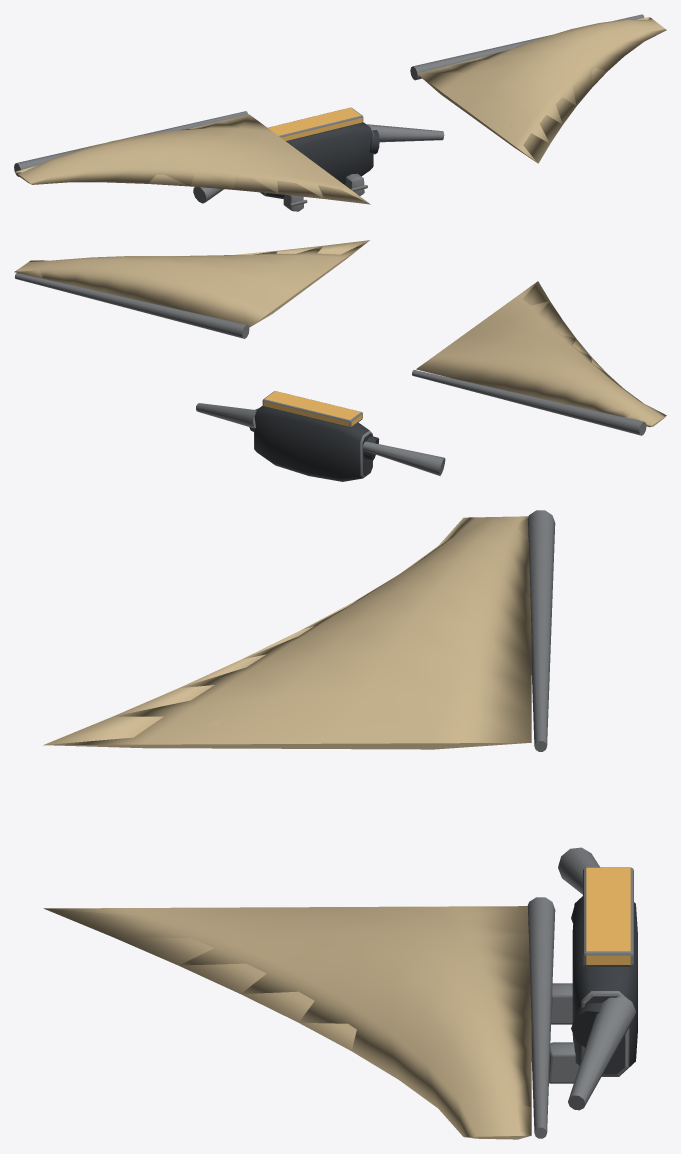
The model's file is wingsuit.fbx.
The picture shows the model from 3 angles, top to bottom: view 1: azimuth 30°, elevation 25°; view 2: azimuth 150°, elevation 25°; view 3: azimuth 270°, elevation 25°; orthographic projection. The views are drawn at different scales.
Visible parts, largest first — view 1: Mesh_Wingsuit_Membrane_R, Mesh_Wingsuit_Membrane_L, Mesh_Wingsuit_Pack, Mesh_Wingsuit_SparStub_L, Mesh_Wingsuit_Batten_L, Mesh_Wingsuit_Batten_R, Mesh_Wingsuit_Clamp_L, Mesh_Wingsuit_SparStub_R, Mesh_Wingsuit_Clamp_R; view 2: Mesh_Wingsuit_Membrane_L, Mesh_Wingsuit_Membrane_R, Mesh_Wingsuit_Pack, Mesh_Wingsuit_Batten_L, Mesh_Wingsuit_Batten_R, Mesh_Wingsuit_SparStub_R, Mesh_Wingsuit_SparStub_L; view 3: Mesh_Wingsuit_Membrane_R, Mesh_Wingsuit_Membrane_L, Mesh_Wingsuit_Pack, Mesh_Wingsuit_Batten_L, Mesh_Wingsuit_Batten_R, Mesh_Wingsuit_SparStub_L, Mesh_Wingsuit_Clamp_L, Mesh_Wingsuit_SparStub_R, Mesh_Wingsuit_Clamp_R.
Part boxes in pixels (x1,y1,x2,y2): Mesh_Wingsuit_Membrane_R: (15,114,370,204); Mesh_Wingsuit_Membrane_L: (417,17,666,163); Mesh_Wingsuit_Pack: (260,107,373,198); Mesh_Wingsuit_SparStub_L: (367,124,444,154); Mesh_Wingsuit_Batten_L: (410,14,644,80); Mesh_Wingsuit_Batten_R: (14,111,247,176); Mesh_Wingsuit_Clamp_L: (344,173,367,195); Mesh_Wingsuit_SparStub_R: (193,187,223,203); Mesh_Wingsuit_Clamp_R: (283,195,307,211); Mesh_Wingsuit_Membrane_L: (14,240,369,327); Mesh_Wingsuit_Membrane_R: (416,281,666,427); Mesh_Wingsuit_Pack: (254,391,372,481); Mesh_Wingsuit_Batten_L: (15,273,249,338); Mesh_Wingsuit_Batten_R: (412,370,646,435); Mesh_Wingsuit_SparStub_R: (362,436,445,475); Mesh_Wingsuit_SparStub_L: (196,403,258,431); Mesh_Wingsuit_Membrane_R: (43,516,531,749); Mesh_Wingsuit_Membrane_L: (43,906,531,1139); Mesh_Wingsuit_Pack: (572,867,637,1076); Mesh_Wingsuit_Batten_L: (527,897,555,1138); Mesh_Wingsuit_Batten_R: (528,510,555,751); Mesh_Wingsuit_SparStub_L: (568,996,635,1110); Mesh_Wingsuit_Clamp_L: (549,1042,579,1083); Mesh_Wingsuit_SparStub_R: (558,847,599,923); Mesh_Wingsuit_Clamp_R: (551,983,572,1024).
Size of the model in its own units: 258 by 52.29 by 105.
